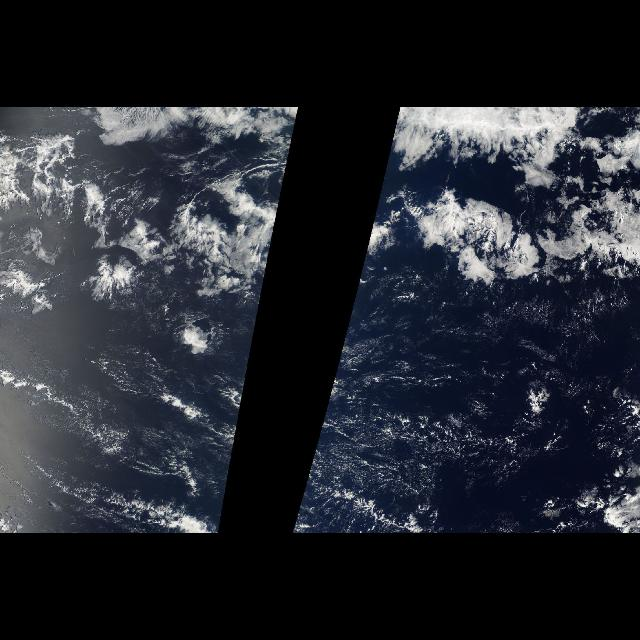Flower: (351, 166, 639, 314), (156, 166, 288, 314)
Sugar: (290, 281, 640, 534), (12, 281, 266, 534)
